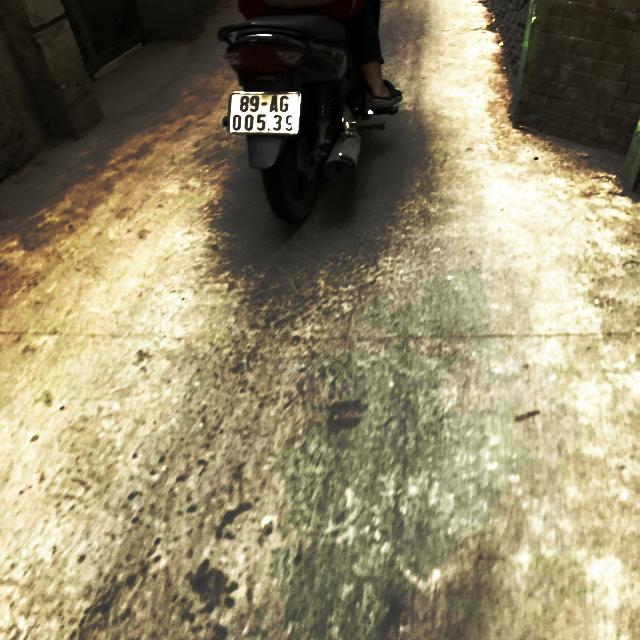license_plate: (226, 88, 306, 138)
